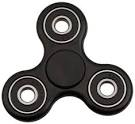fidget_spinner: (5, 0, 132, 119)
